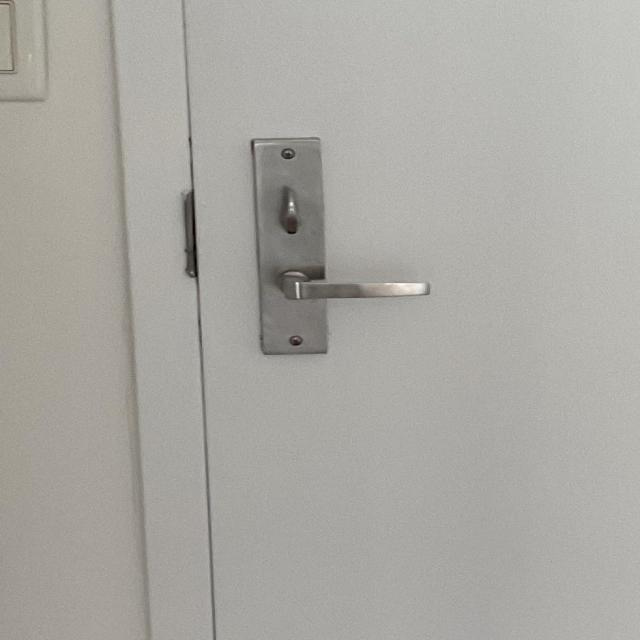door_handle: (269, 252, 443, 318)
